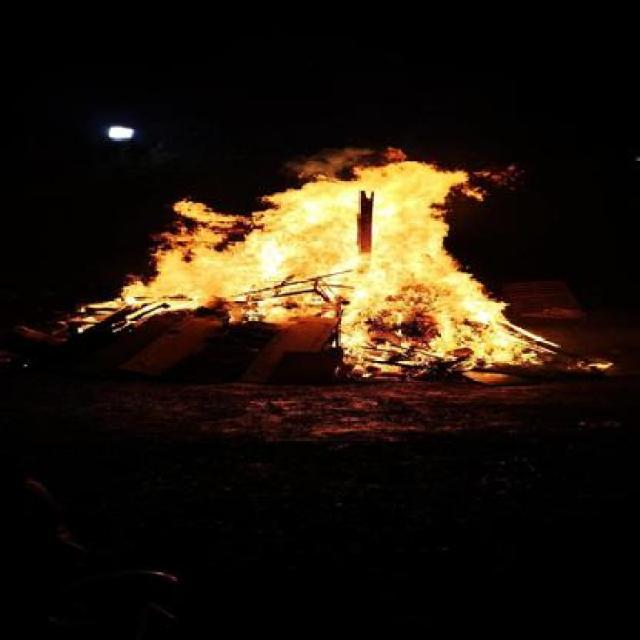Fire: (68, 152, 587, 386)
